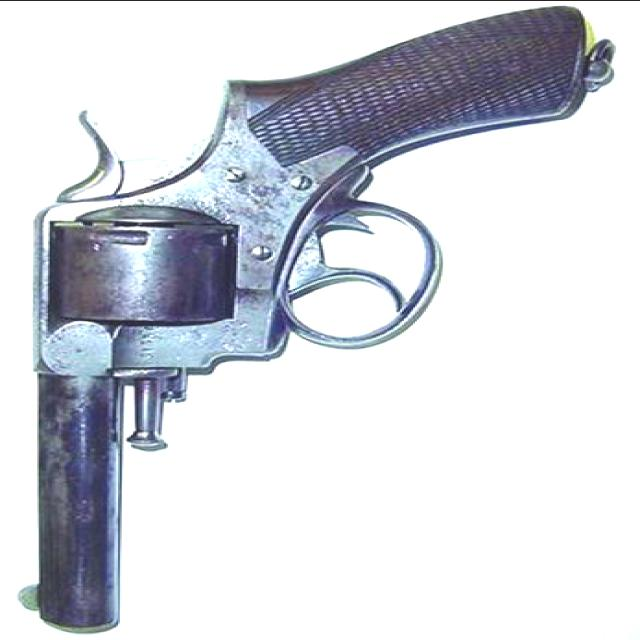handgun: (18, 7, 618, 630)
